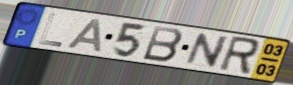5: (109, 21, 150, 59)
A: (65, 18, 103, 54)
B: (140, 25, 184, 64)
L: (37, 11, 65, 48)
N: (182, 32, 232, 70)
R: (216, 35, 262, 77)
